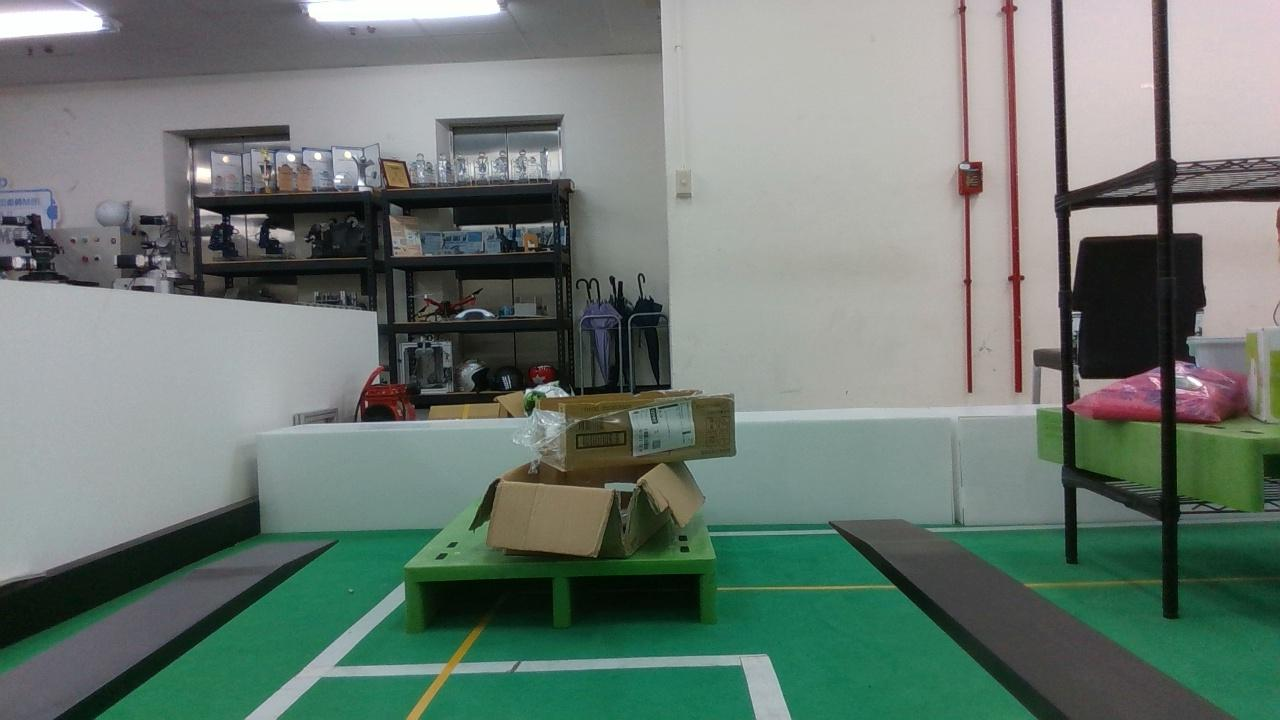Pallet: (396, 557, 727, 639)
